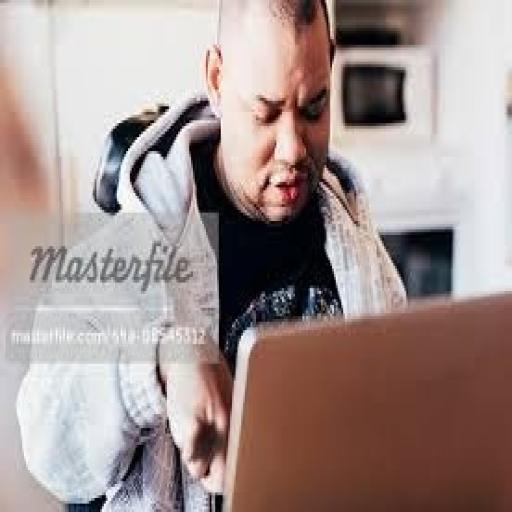using_laptop: (219, 286, 510, 510)
